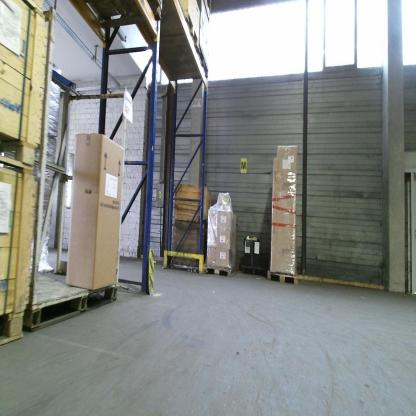pallet: (21, 261, 125, 344), (137, 9, 199, 51), (156, 42, 211, 83), (265, 262, 300, 285), (205, 259, 237, 277)
